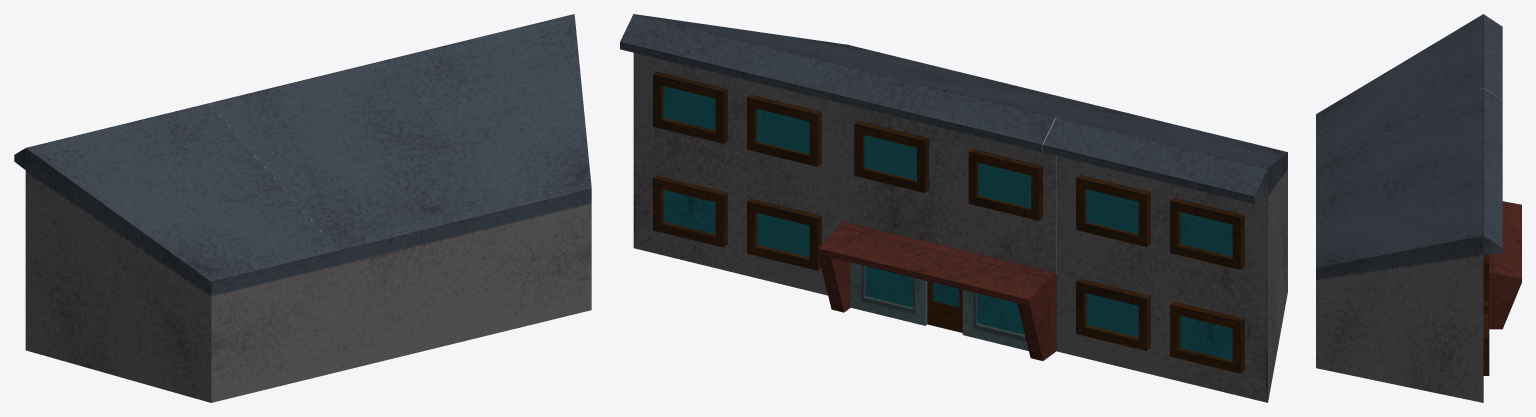
3 views of the same model, side by side, from view 1: azimuth 30°, elevation 25°; view 2: azimuth 150°, elevation 25°; view 3: azimuth 270°, elevation 25° (orthographic). The views are drawn at different scales.
Visible parts, largest first — view 1: cuboid; view 2: cuboid, windows_selection, door; view 3: cuboid, door, windows_selection.
Boxes of the visible parts, <box> form: cuboid: <box>14,14,591,402</box>; cuboid: <box>620,14,1287,402</box>; windows_selection: <box>653,72,1244,373</box>; door: <box>818,222,1056,360</box>; cuboid: <box>1316,14,1502,402</box>; door: <box>1489,201,1521,329</box>; windows_selection: <box>1483,254,1489,375</box>.
Size of the model in its own units: 1705 by 601 by 670.
Materials: 3 (3 with a texture image).
